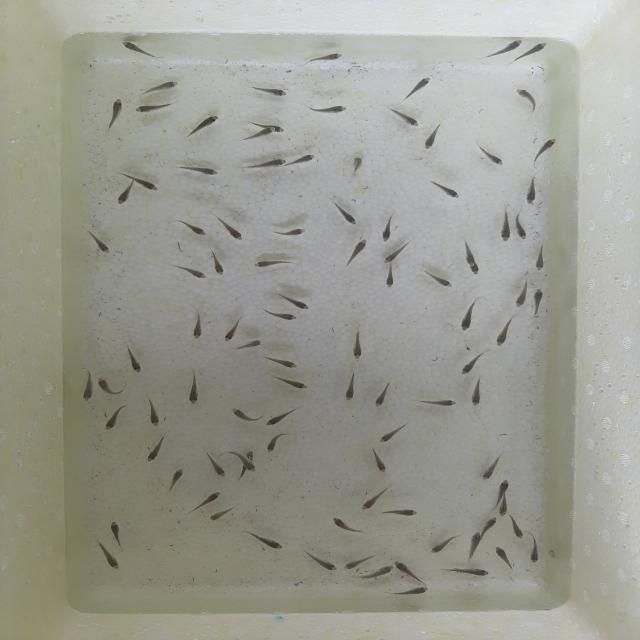fingerling: (241, 529, 287, 554), (121, 39, 164, 63), (512, 85, 545, 116), (427, 178, 466, 202), (172, 161, 224, 178), (101, 96, 127, 129), (183, 114, 220, 136), (274, 288, 311, 310), (259, 408, 299, 428), (328, 518, 366, 539), (121, 342, 145, 375), (142, 394, 164, 430), (445, 563, 491, 580), (182, 367, 202, 406), (98, 546, 125, 574), (86, 232, 116, 257), (94, 376, 128, 398), (143, 434, 165, 468), (523, 37, 551, 63), (386, 108, 422, 128), (140, 79, 182, 96), (477, 143, 508, 166), (215, 219, 246, 242), (484, 38, 521, 57), (98, 405, 125, 431), (458, 351, 486, 376), (394, 559, 425, 581), (356, 492, 390, 512), (246, 85, 298, 98), (201, 450, 226, 477), (368, 446, 392, 474), (421, 270, 456, 289), (466, 378, 488, 408), (425, 536, 458, 556), (195, 488, 220, 514), (383, 240, 410, 264), (205, 506, 241, 524), (303, 554, 339, 572), (241, 157, 290, 170), (238, 127, 275, 144), (532, 134, 556, 160), (420, 122, 442, 150), (172, 263, 208, 280), (461, 296, 478, 332), (377, 424, 406, 445), (109, 520, 128, 552), (260, 431, 285, 455), (388, 585, 428, 600), (231, 406, 260, 426), (408, 76, 433, 99), (494, 319, 515, 346), (301, 53, 348, 65), (177, 221, 210, 238), (218, 320, 243, 342), (523, 176, 541, 206), (498, 210, 512, 248), (345, 238, 369, 260), (411, 397, 459, 408), (80, 368, 96, 401), (112, 184, 133, 209), (375, 379, 393, 408), (478, 456, 498, 482), (264, 307, 300, 321), (332, 206, 357, 226), (350, 329, 365, 362), (272, 376, 310, 389), (135, 102, 179, 113), (514, 278, 530, 308), (492, 546, 512, 570), (167, 468, 186, 493), (285, 154, 318, 168), (310, 104, 348, 116), (272, 228, 310, 240), (209, 252, 227, 277), (365, 564, 395, 579), (386, 506, 418, 520), (252, 119, 286, 132), (514, 216, 531, 242), (466, 530, 483, 556), (342, 377, 359, 402), (347, 155, 367, 176), (235, 338, 265, 352), (268, 357, 303, 369), (189, 310, 202, 342), (247, 260, 288, 270), (380, 217, 396, 242), (531, 288, 544, 318), (491, 478, 512, 496), (481, 514, 500, 533), (342, 558, 371, 570), (528, 537, 540, 566), (512, 517, 526, 540), (496, 496, 512, 516), (133, 180, 161, 191), (384, 267, 398, 289), (465, 240, 476, 267), (242, 459, 260, 475), (534, 243, 544, 271), (243, 451, 256, 462), (471, 264, 481, 275)
